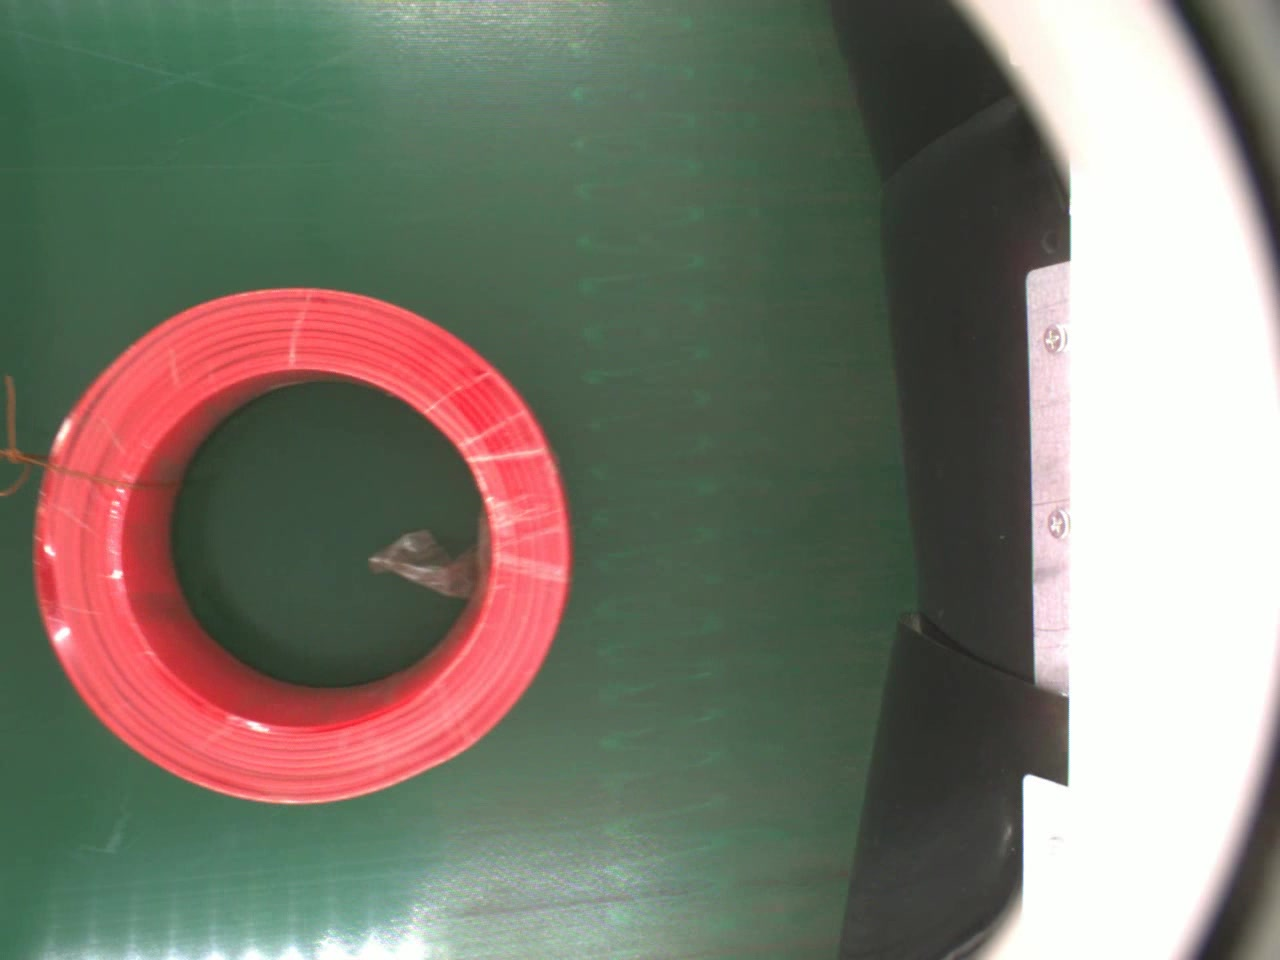red: (27, 282, 583, 806)
